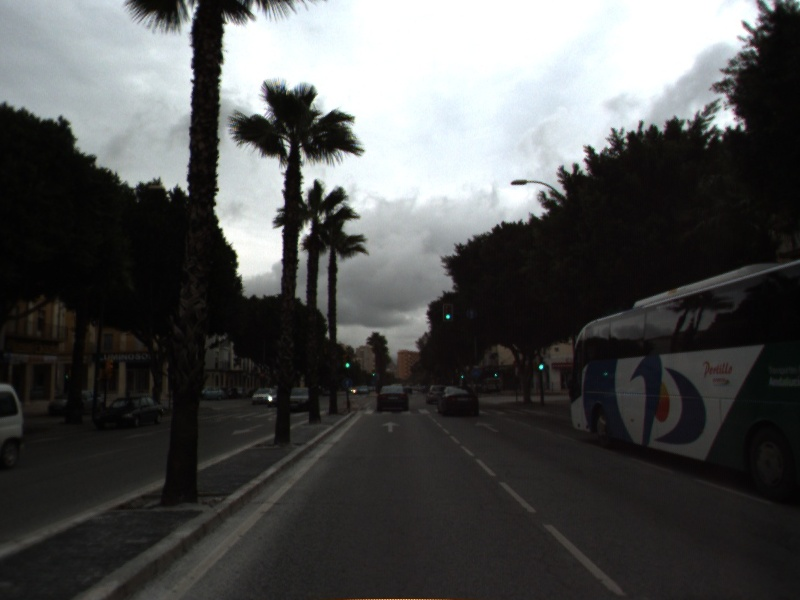STRAIGHT: (472, 418, 502, 434), (378, 419, 403, 434)
